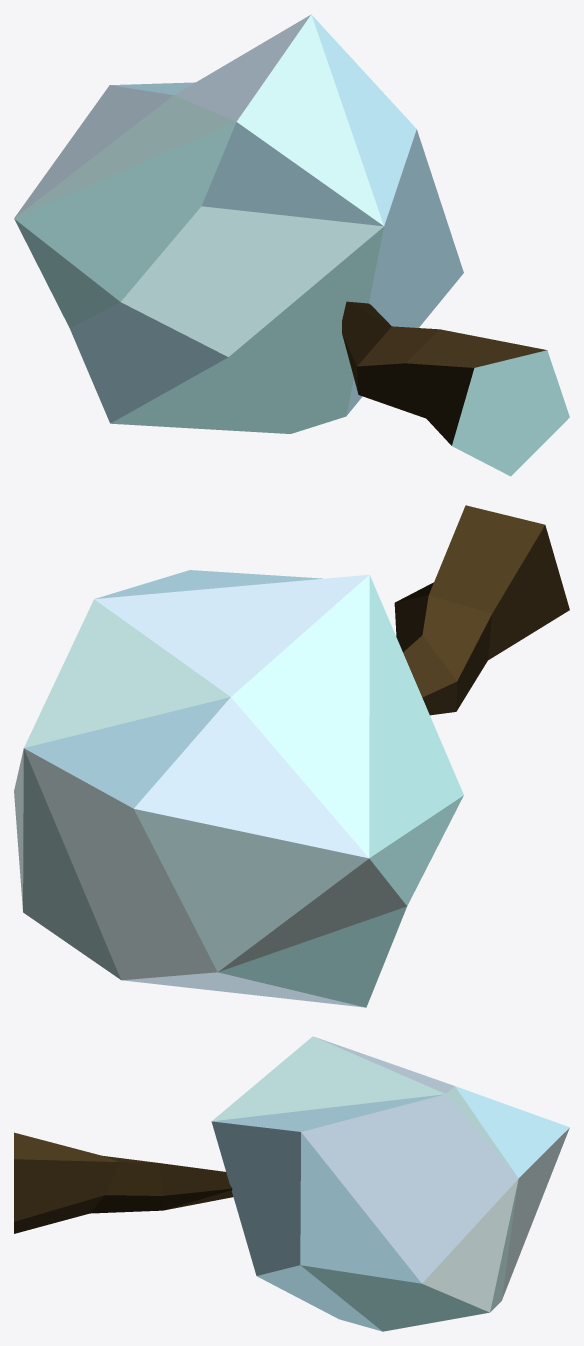
File: winter_tree_5.fbx
3 views of the same model, one above another, from view 1: azimuth 30°, elevation 25°; view 2: azimuth 150°, elevation 25°; view 3: azimuth 270°, elevation 25° (orthographic). The views are drawn at different scales.
Parts seen in each view (by area): view 1: winter_tree_5; view 2: winter_tree_5; view 3: winter_tree_5.
Part boxes in pixels (x1,y1,x2,y2): winter_tree_5: (14,14,569,476); winter_tree_5: (14,505,569,1007); winter_tree_5: (14,1036,569,1331).
Size of the model in its own units: 79.16 by 71.73 by 140.
